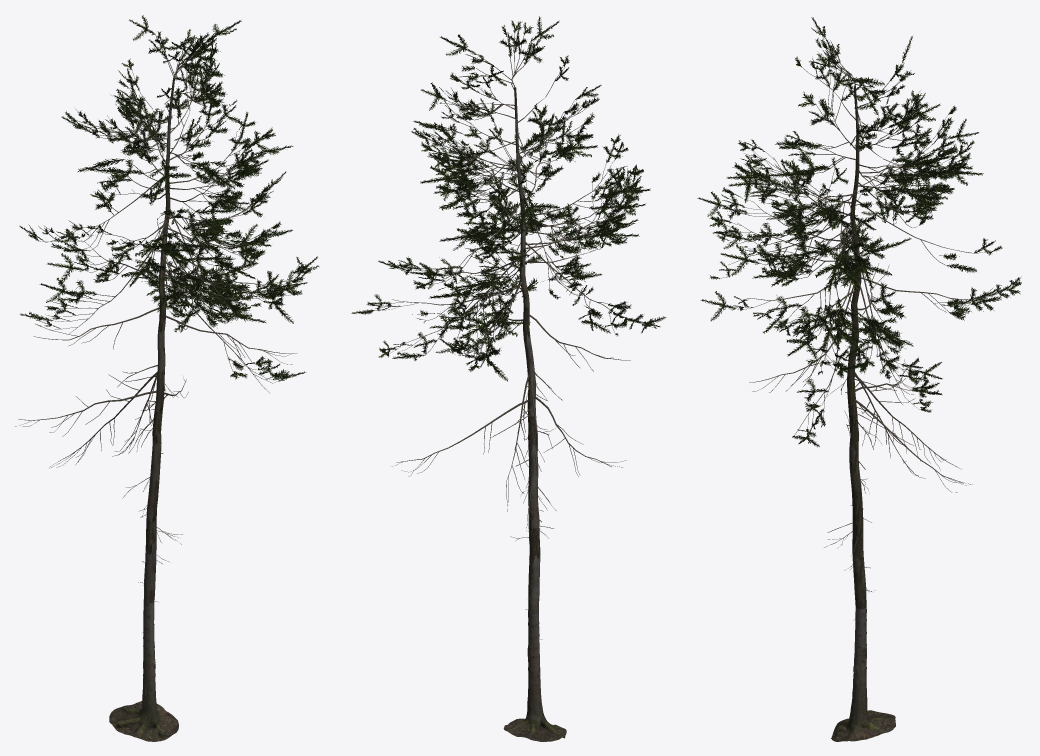
Rendered from fir-c-lod1.glb.
3 views of the same model, side by side, from view 1: azimuth 30°, elevation 25°; view 2: azimuth 150°, elevation 25°; view 3: azimuth 270°, elevation 25° (orthographic). The views are drawn at different scales.
Visible parts, largest first — view 1: fir_c_lod1; view 2: fir_c_lod1; view 3: fir_c_lod1.
Boxes of the visible parts, x1,y1,x2,y2 form: fir_c_lod1: [15, 15, 319, 741]; fir_c_lod1: [351, 16, 666, 741]; fir_c_lod1: [697, 17, 1021, 741].
Bounding box in the file's own units: 6.35 × 14.55 × 6.01.
Materials: 4 (4 with a texture image).
